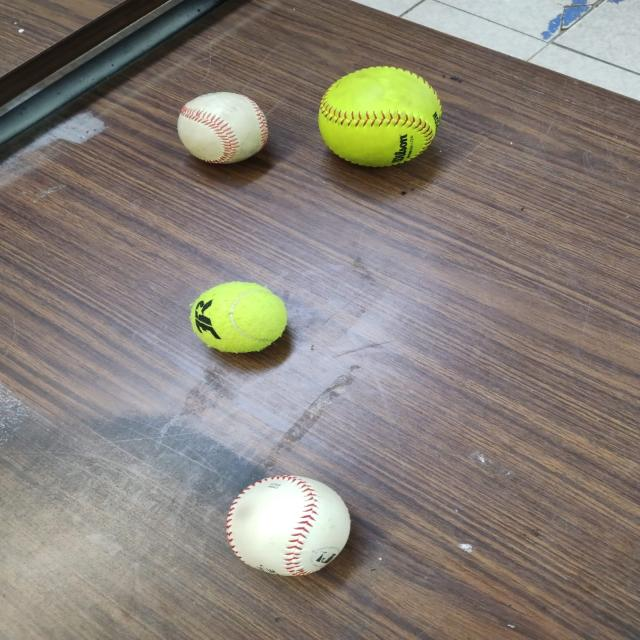beisbol ball: (219, 467, 356, 577), (177, 91, 269, 164)
softball ball: (316, 67, 443, 168)
tenis ball: (189, 280, 287, 353)
